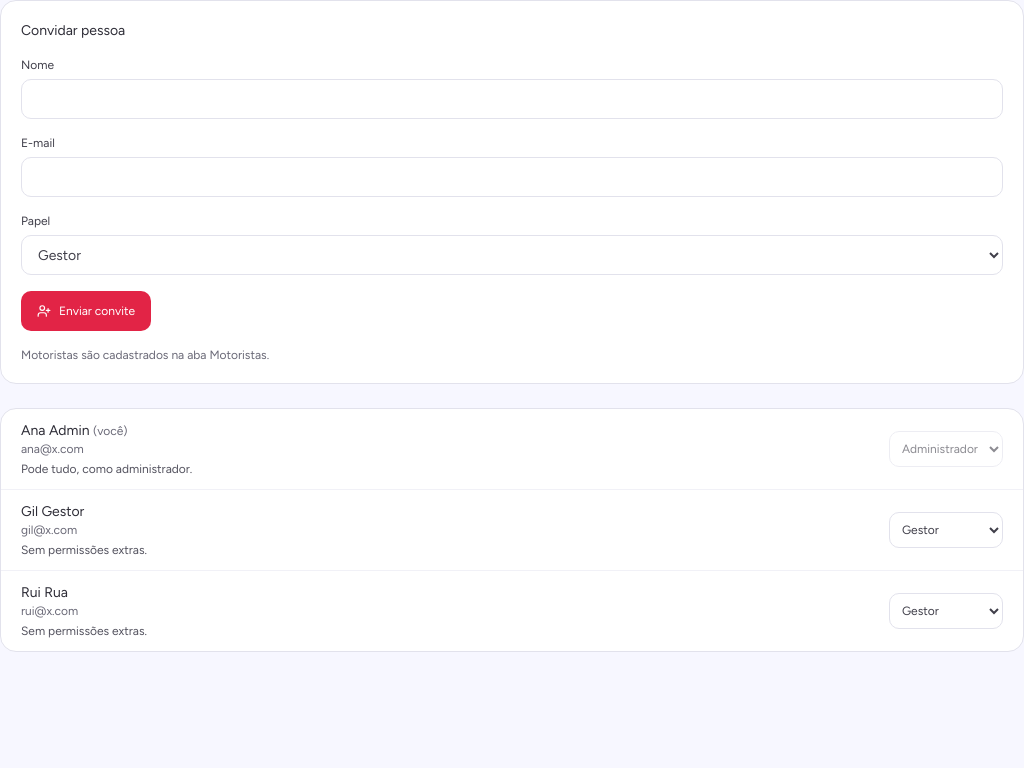
Scenario: Pessoas: confirmações ao trocar o papel › papel motorista sem cadastro ligado avisa o que falta e não parece pronto
Select "Motorista" in the dropdown named "Papel de Rui Rua". click: (946, 611)
box: [889,593,1003,629]
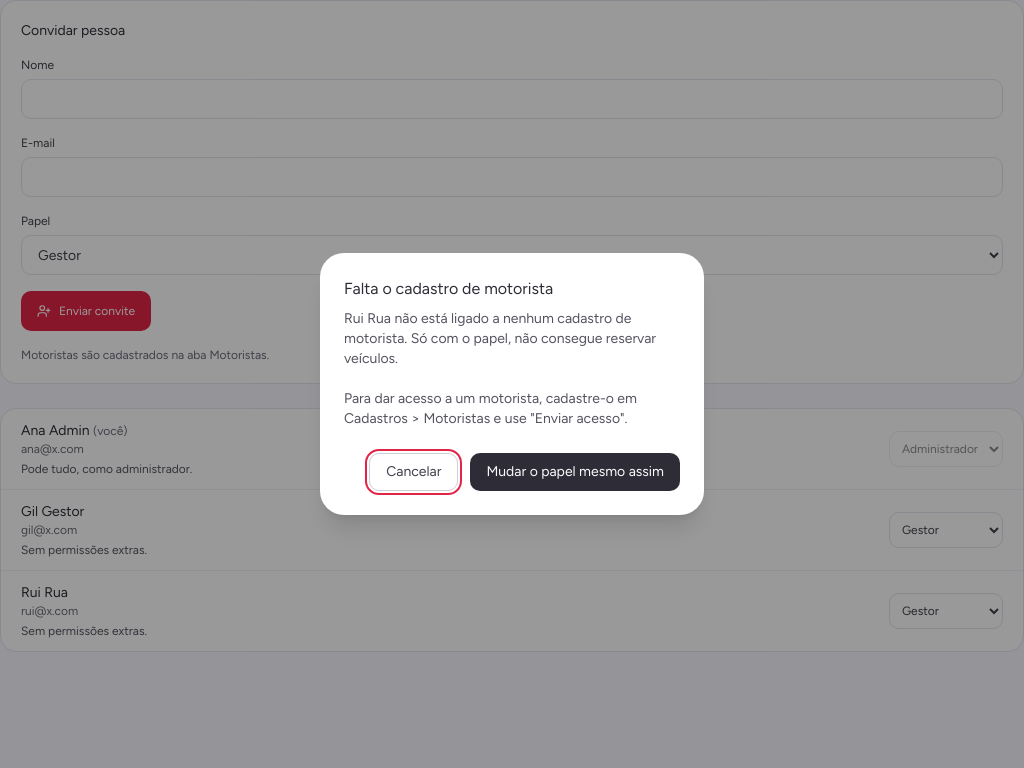
Now the dialog shows "Falta o cadastro de motorista", box [344,279,553,298]
Now the dialog shows "não consegue reservar veículos", box [344,310,656,427]
Now the dialog shows "Cadastros > Motoristas e use \"Enviar acesso\"", box [344,310,656,427]
Click the button "Mudar o papel mesmo assim". click: click(575, 472)
box: [470,453,680,491]
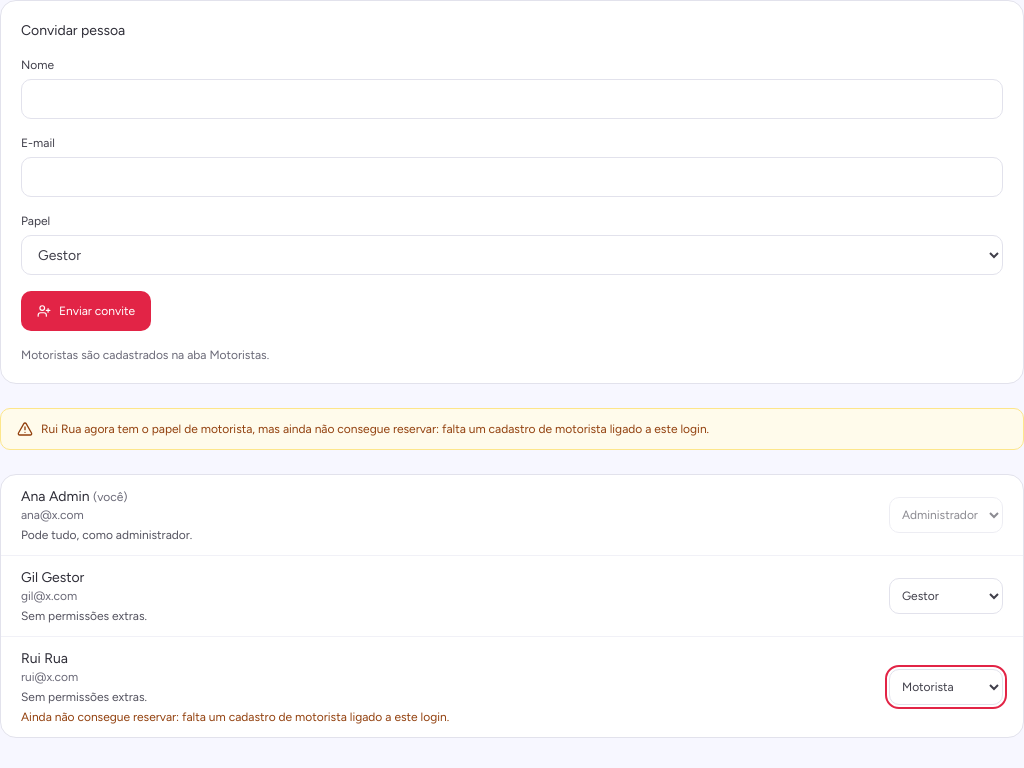
Now the text "agora tem o papel de motorista, mas ainda não consegue reservar" is shown, box [41,422,709,436]
Now the text "Ainda não consegue reservar: falta um cadastro de motorista" is shown, box [21,710,449,724]
